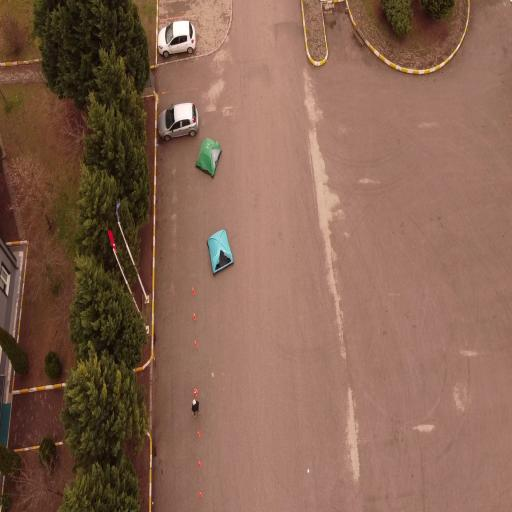tent: (204, 230, 233, 274), (194, 138, 222, 176)
